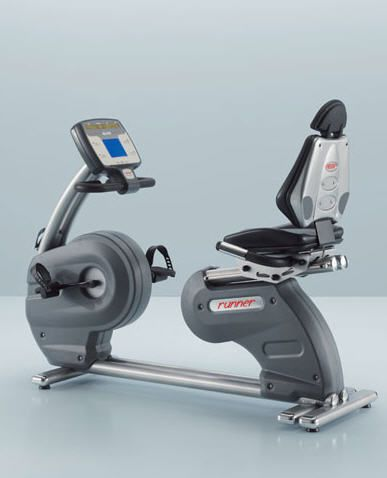gym_bike: (12, 94, 378, 433)
